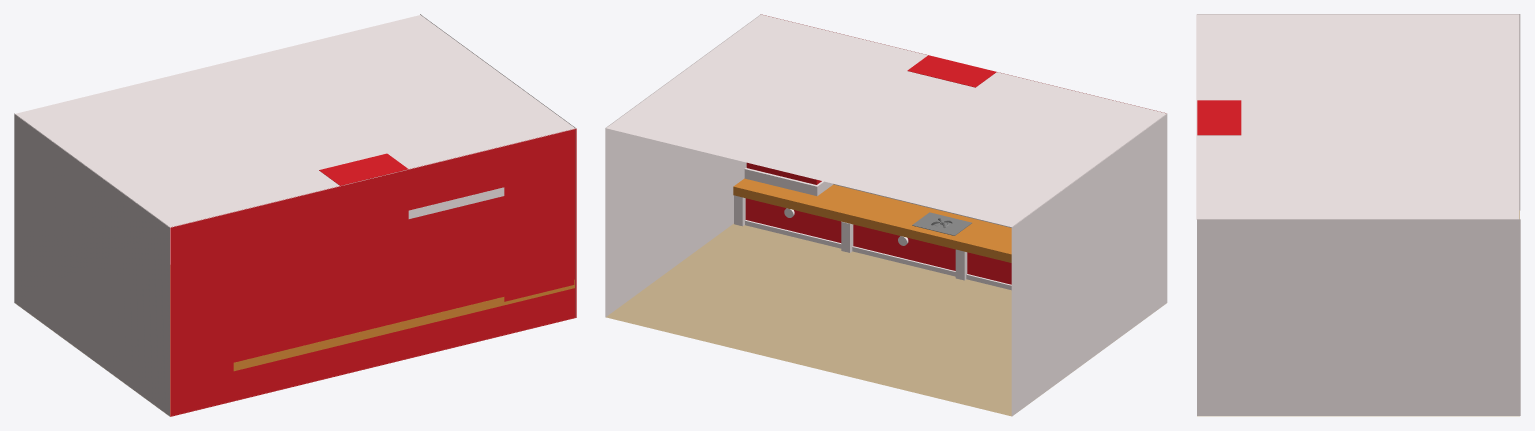
Rendered from ENTORNO.fbx.
3 renders of one model, left to right at view 1: azimuth 30°, elevation 25°; view 2: azimuth 150°, elevation 25°; view 3: azimuth 270°, elevation 25°, orthographic. The views are drawn at different scales.
Parts seen in each view (by area): view 1: Plano.002, Plano.003, Plano.004, Cubo.006, Cubo, Cubo.009, Cubo.010; view 2: Plano.003, Plano, Plano.004, Plano.001, Cubo, Cube, Cubo.005, Cubo.009, Cubo.007, Cubo.023; view 3: Plano.003, Plano.001, Cubo.009, Plano.004, Plano.
Part boxes in pixels (x1,y1,x2,y2): Plano.002: [170, 128, 576, 416]; Plano.003: [15, 15, 575, 227]; Plano.004: [14, 113, 169, 416]; Cubo.006: [504, 129, 574, 301]; Cubo: [233, 279, 574, 371]; Cubo.009: [319, 153, 408, 185]; Cubo.010: [408, 187, 504, 218]; Plano.003: [606, 14, 1167, 226]; Plano: [606, 223, 1166, 416]; Plano.004: [1011, 114, 1167, 416]; Plano.001: [605, 14, 761, 317]; Cubo: [733, 178, 1011, 262]; Cube: [745, 198, 1011, 284]; Cubo.005: [745, 220, 1011, 290]; Cubo.009: [907, 55, 996, 87]; Cubo.007: [744, 167, 833, 196]; Cubo.023: [912, 212, 971, 235]; Plano.003: [1196, 14, 1519, 219]; Plano.001: [1197, 219, 1520, 415]; Cubo.009: [1197, 100, 1241, 135]; Plano.004: [1197, 14, 1520, 210]; Plano: [1197, 210, 1519, 416].
Size of the model in its own units: 2211 by 986 by 1469.
